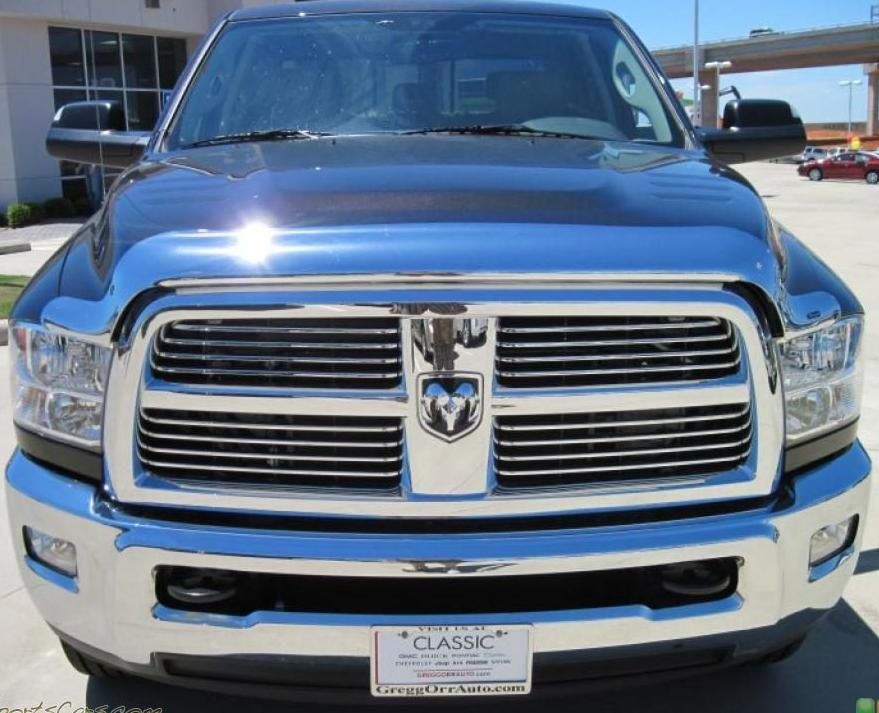front_view: (9, 225, 874, 673)
headlight: (739, 278, 870, 485)
